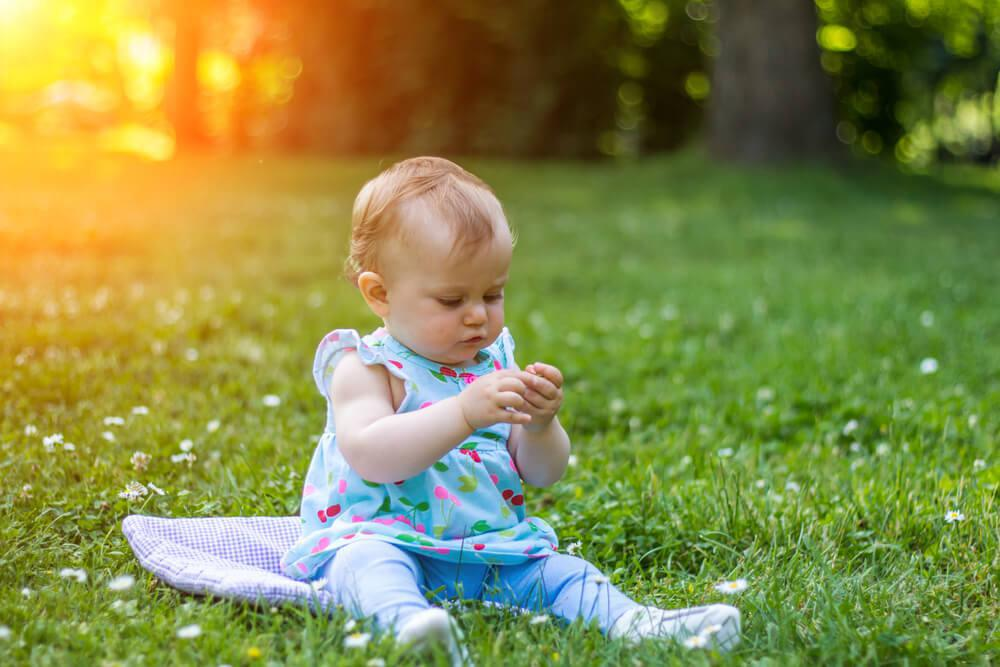child: (201, 155, 758, 667)
